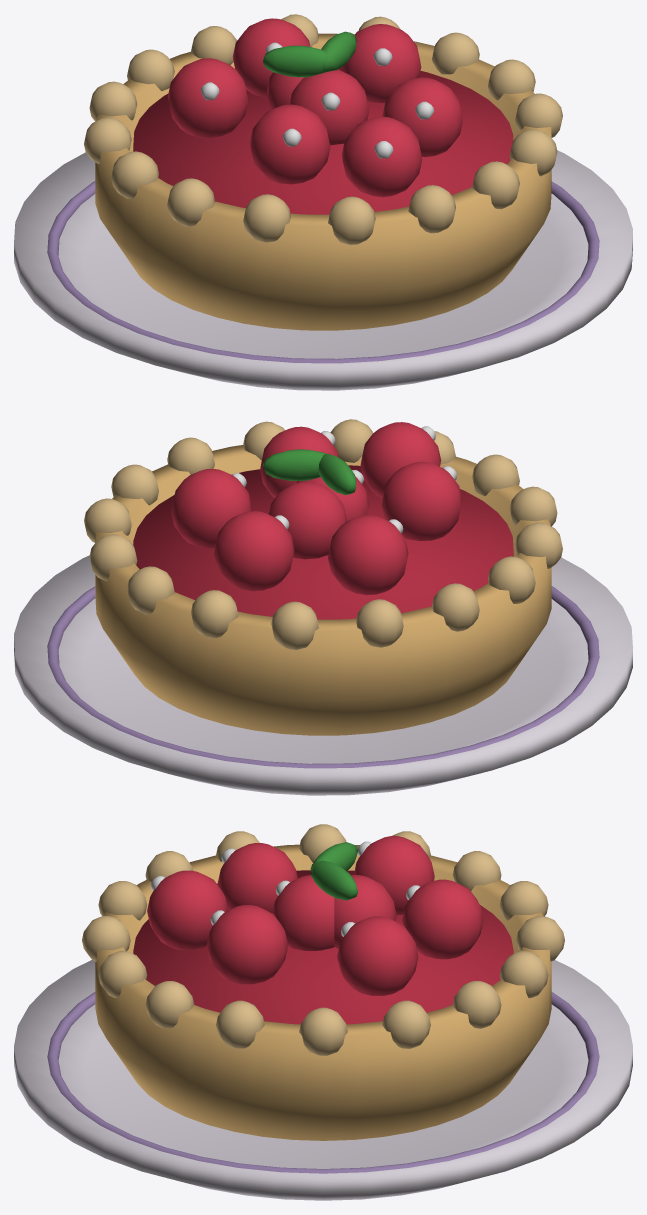
Rendered from tart.glb.
The picture shows the model from 3 angles, top to bottom: view 1: azimuth 30°, elevation 25°; view 2: azimuth 150°, elevation 25°; view 3: azimuth 270°, elevation 25°; orthographic projection.
Visible parts, largest first — view 1: _fluff-crust_crimp, _plate_plate, _berries_berry, _berry-filling_berry_filling; view 2: _fluff-crust_crimp, _plate_plate, _berries_berry, _berry-filling_berry_filling; view 3: _fluff-crust_crimp, _plate_plate, _berries_berry, _berry-filling_berry_filling.
Part boxes in pixels (x1,y1,x2,y2): _fluff-crust_crimp: [84, 14, 562, 330]; _plate_plate: [14, 150, 632, 390]; _berries_berry: [167, 18, 462, 197]; _berry-filling_berry_filling: [133, 67, 513, 214]; _fluff-crust_crimp: [84, 419, 562, 735]; _plate_plate: [14, 555, 632, 795]; _berries_berry: [171, 422, 462, 595]; _berry-filling_berry_filling: [133, 465, 513, 619]; _fluff-crust_crimp: [82, 824, 564, 1140]; _plate_plate: [14, 960, 632, 1200]; _berries_berry: [147, 836, 483, 995]; _berry-filling_berry_filling: [133, 870, 513, 1024].
Bounding box in the file's own units: 1.14 × 0.485 × 1.14.
